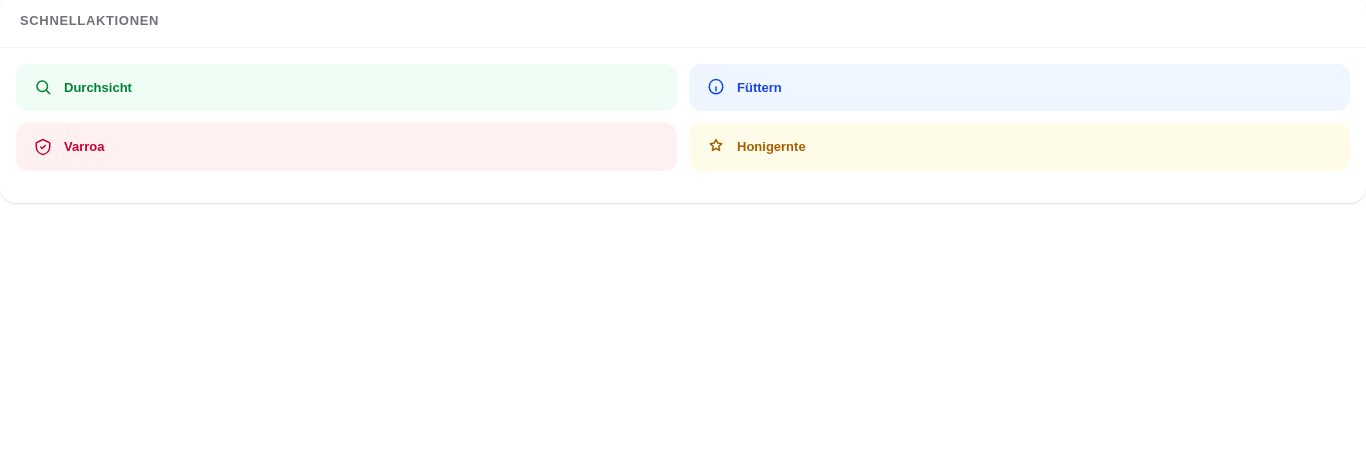
Test case: ColonyQuickActions › opens feeding form when Füttern is clicked
Step 1. Click the button "Füttern" → click(759, 87), box top-left (689, 64), bottom-right (1350, 111)
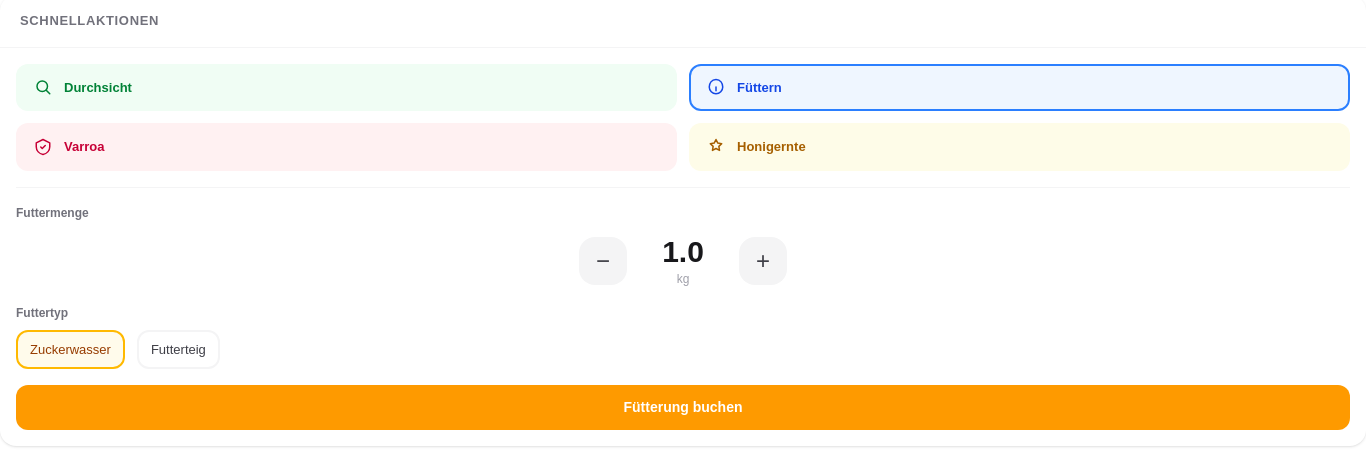
Now the text "Futtermenge" is shown, box top-left (16, 206), bottom-right (89, 220)
Now the button "Fütterung buchen" is shown, box top-left (16, 385), bottom-right (1350, 430)
